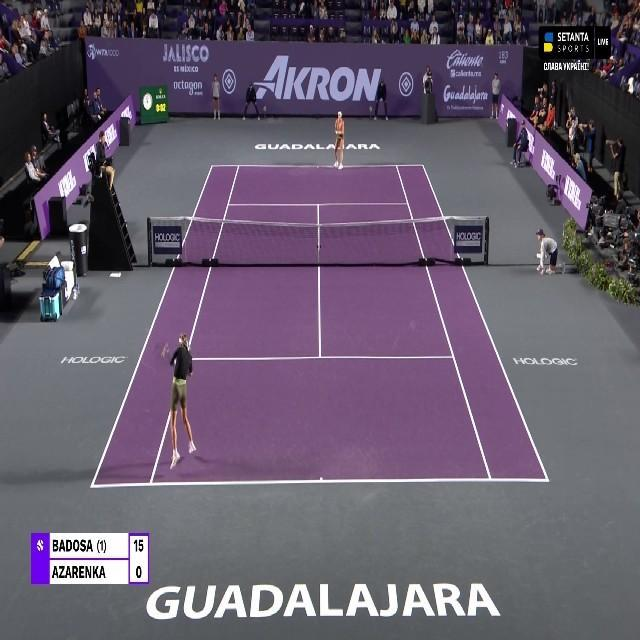left side: (397, 165, 548, 480), (91, 166, 239, 487)
player: (159, 333, 201, 471), (330, 110, 348, 169)
